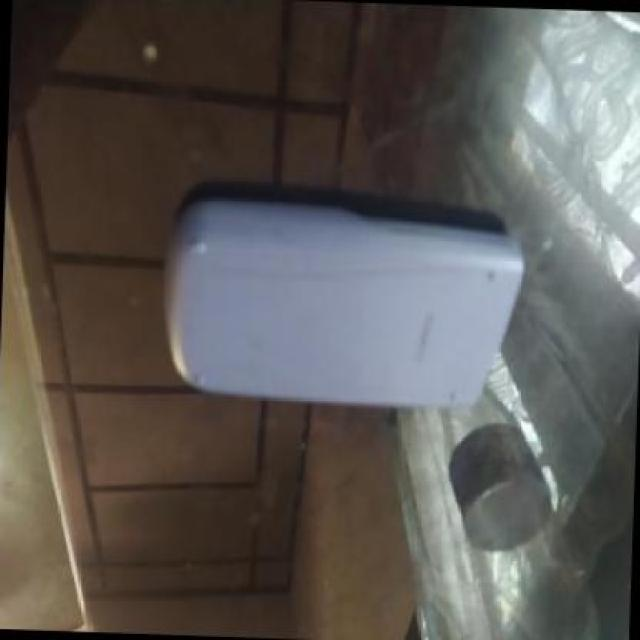Calculator: (154, 185, 531, 424)
